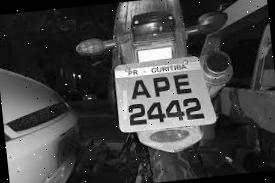placa_antiga: (113, 56, 214, 131)
